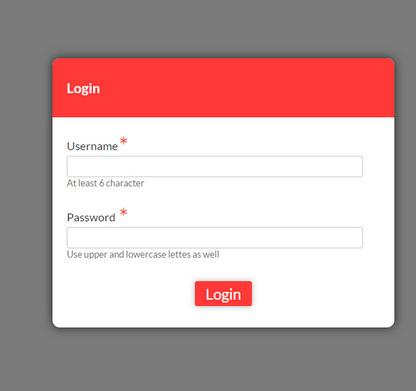button: (194, 279, 255, 307)
field: (64, 224, 363, 250), (65, 155, 364, 179)
field_with_label: (62, 211, 364, 252), (63, 142, 365, 181)
